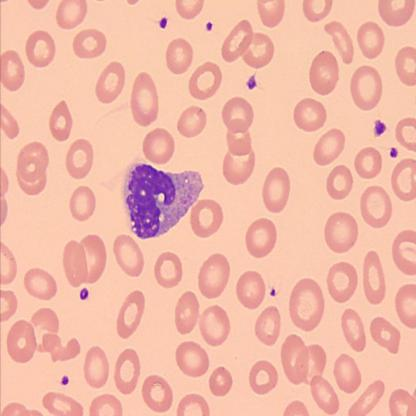Monocyte: (119, 154, 206, 242)
